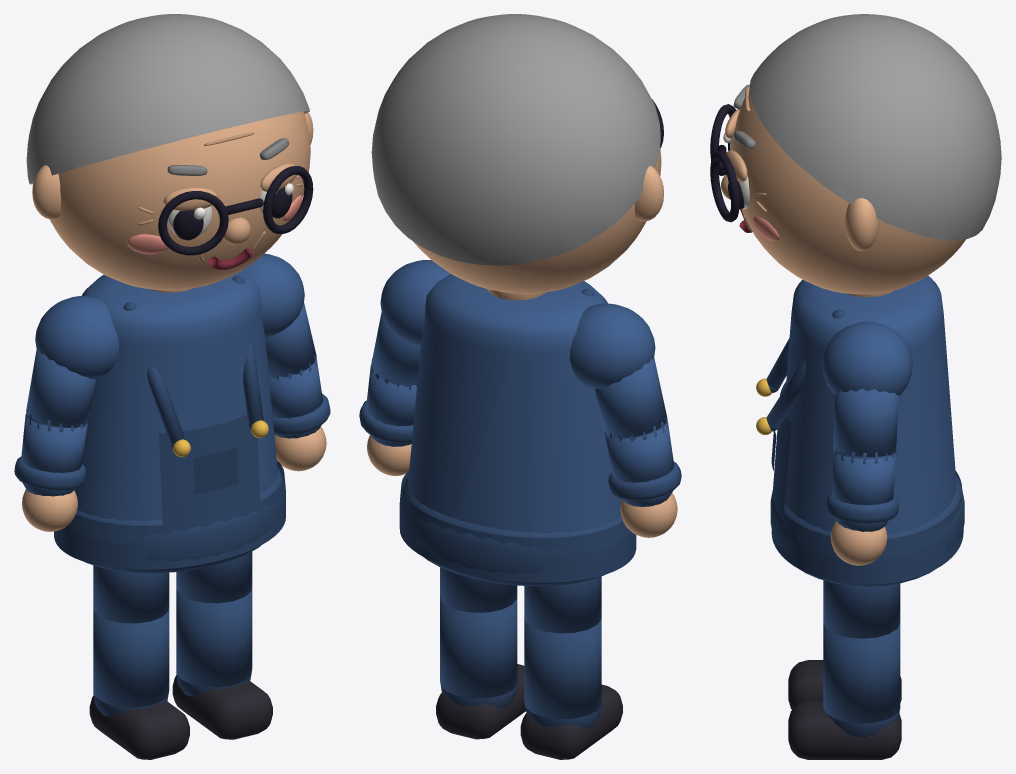
The model's file is ch_worker.fbx.
3 renders of one model, left to right at view 1: azimuth 30°, elevation 25°; view 2: azimuth 150°, elevation 25°; view 3: azimuth 270°, elevation 25°, orthographic.
Visible parts, largest first — view 1: ch_worker; view 2: ch_worker; view 3: ch_worker.
Part boxes in pixels (x1,y1,x2,y2): ch_worker: [14, 14, 330, 759]; ch_worker: [359, 14, 681, 759]; ch_worker: [710, 14, 1001, 759].
Bounding box in the file's own units: 0.7038 × 1.53 × 0.5756.
